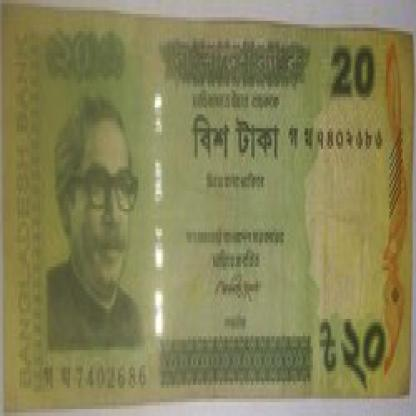Twenty: (311, 312, 396, 392), (40, 31, 138, 97), (180, 111, 286, 166), (321, 45, 386, 101)
